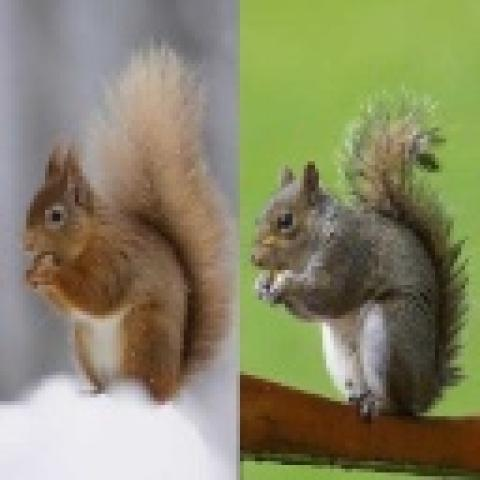small_animal: (21, 56, 226, 406), (249, 90, 463, 422)
